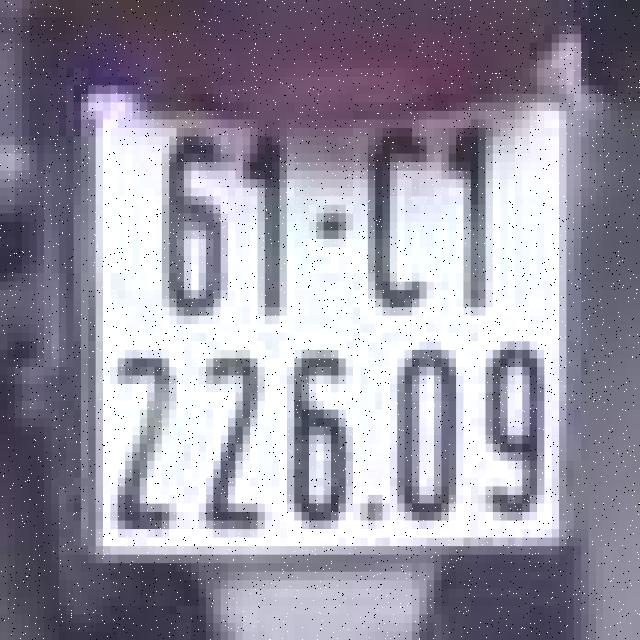0: (386, 320, 460, 533)
1: (239, 111, 298, 324), (441, 94, 493, 324)
2: (191, 328, 265, 542), (107, 341, 180, 529)
6: (272, 333, 361, 529), (154, 120, 236, 324)
9: (474, 333, 556, 529)
C: (353, 98, 441, 320)
